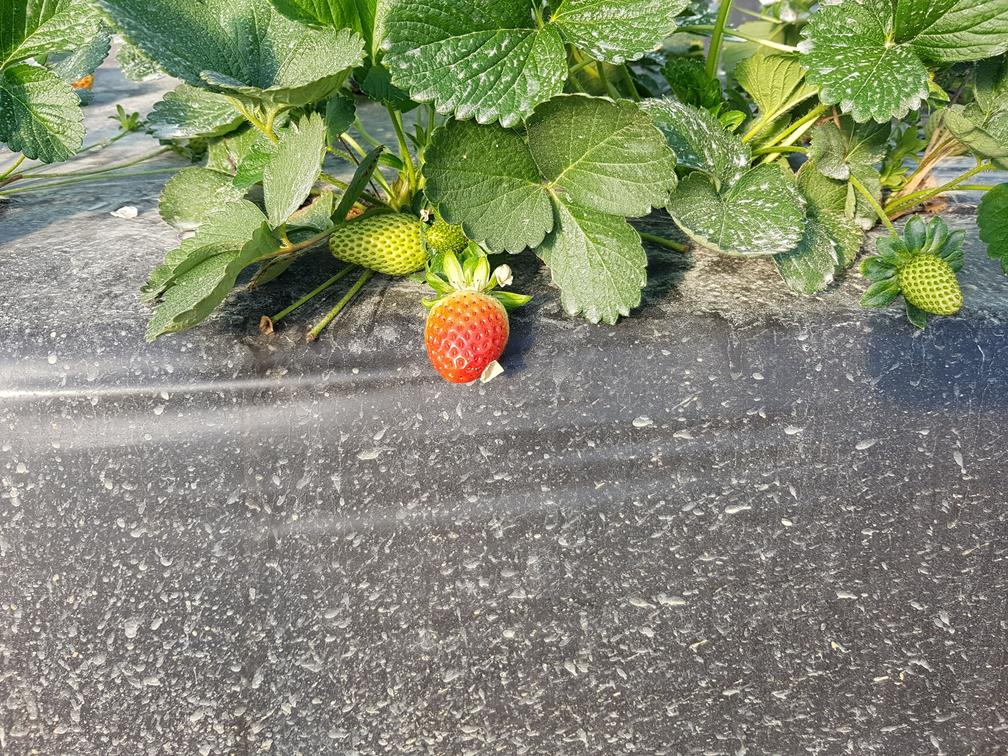Ripe: (424, 289, 514, 392)
Unripe: (328, 216, 430, 275), (896, 251, 968, 320)
